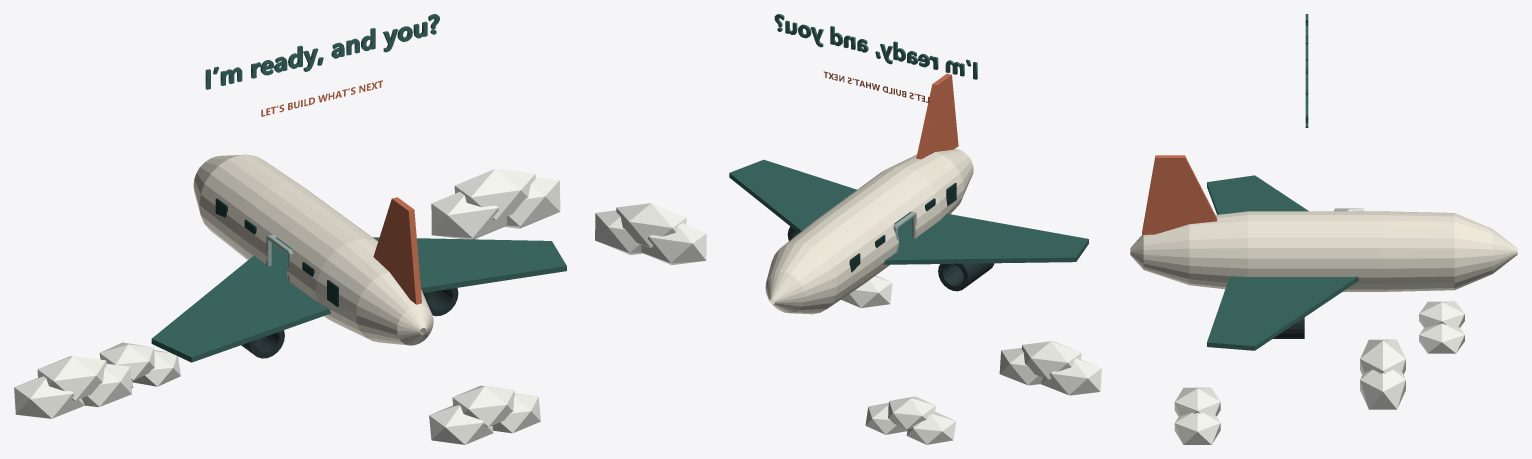
The model's file is ready.glb.
3 views of the same model, side by side, from view 1: azimuth 30°, elevation 25°; view 2: azimuth 150°, elevation 25°; view 3: azimuth 270°, elevation 25° (orthographic). The views are drawn at different scales.
Visible parts, largest first — view 1: Avión · fuselaje con ventanilla hueca.001, Avión · ala cercana.001, Avión · ala.001, Avión · deriva.001, Final · invitación.001, Nube · faceta.016, Nube · faceta.015, Nube · faceta.013, Nube · faceta.012, Nube · faceta.022, Nube · faceta.021, Nube · faceta.017 (+7 smaller); view 2: Avión · fuselaje con ventanilla hueca.001, Avión · ala cercana.001, Avión · ala.001, Avión · deriva.001, Final · invitación.001, Nube · faceta.016, Nube · faceta.015, Nube · faceta.013, Nube · faceta.012, Nube · faceta.017, Nube · faceta.019, Nube · faceta.018 (+4 smaller); view 3: Avión · fuselaje con ventanilla hueca.001, Avión · ala.001, Avión · deriva.001, Avión · ala cercana.001, Nube · faceta.017, Nube · faceta.016, Nube · faceta.023, Nube · faceta.020, Nube · faceta.022, Nube · faceta.019, Final · invitación.001.
Boxes of the visible parts, x1=… form: Avión · fuselaje con ventanilla hueca.001: x1=193, y1=154, x2=433, y2=345; Avión · ala cercana.001: x1=151, y1=237, x2=330, y2=362; Avión · ala.001: x1=373, y1=237, x2=566, y2=292; Avión · deriva.001: x1=373, y1=197, x2=421, y2=304; Final · invitación.001: x1=205, y1=14, x2=439, y2=89; Nube · faceta.016: x1=454, y1=168, x2=535, y2=220; Nube · faceta.015: x1=431, y1=192, x2=506, y2=239; Nube · faceta.013: x1=37, y1=356, x2=106, y2=400; Nube · faceta.012: x1=14, y1=376, x2=84, y2=418; Nube · faceta.022: x1=452, y1=385, x2=514, y2=426; Nube · faceta.021: x1=429, y1=405, x2=493, y2=444; Nube · faceta.017: x1=505, y1=177, x2=560, y2=228; Avión · fuselaje con ventanilla hueca.001: x1=765, y1=149, x2=973, y2=314; Avión · ala cercana.001: x1=883, y1=211, x2=1088, y2=264; Avión · ala.001: x1=729, y1=159, x2=856, y2=232; Avión · deriva.001: x1=916, y1=73, x2=958, y2=159; Final · invitación.001: x1=774, y1=14, x2=977, y2=79; Nube · faceta.016: x1=616, y1=203, x2=686, y2=247; Nube · faceta.015: x1=641, y1=223, x2=706, y2=265; Nube · faceta.013: x1=1021, y1=341, x2=1081, y2=379; Nube · faceta.012: x1=1041, y1=358, x2=1101, y2=395; Nube · faceta.017: x1=595, y1=210, x2=642, y2=254; Nube · faceta.019: x1=888, y1=396, x2=935, y2=429; Nube · faceta.018: x1=906, y1=412, x2=956, y2=444; Avión · fuselaje con ventanilla hueca.001: x1=1130, y1=211, x2=1517, y2=291; Avión · ala.001: x1=1207, y1=276, x2=1358, y2=350; Avión · deriva.001: x1=1142, y1=155, x2=1217, y2=234; Avión · ala cercana.001: x1=1207, y1=175, x2=1308, y2=214; Nube · faceta.017: x1=1360, y1=369, x2=1405, y2=409; Nube · faceta.016: x1=1360, y1=339, x2=1405, y2=374; Nube · faceta.023: x1=1174, y1=413, x2=1220, y2=444; Nube · faceta.020: x1=1419, y1=323, x2=1464, y2=353; Nube · faceta.022: x1=1174, y1=387, x2=1220, y2=415; Nube · faceta.019: x1=1419, y1=301, x2=1464, y2=327; Final · invitación.001: x1=1305, y1=14, x2=1308, y2=127.
Size of the model in its own units: 6.76 by 4.32 by 4.6.
